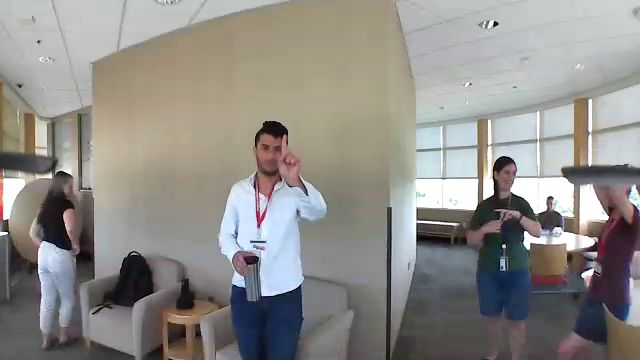up: (271, 129, 310, 188)
